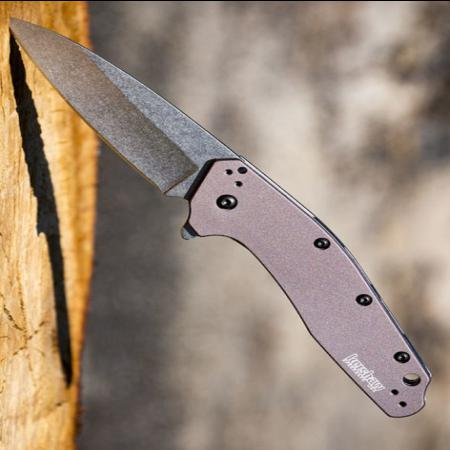long weapon: (5, 8, 265, 208)
